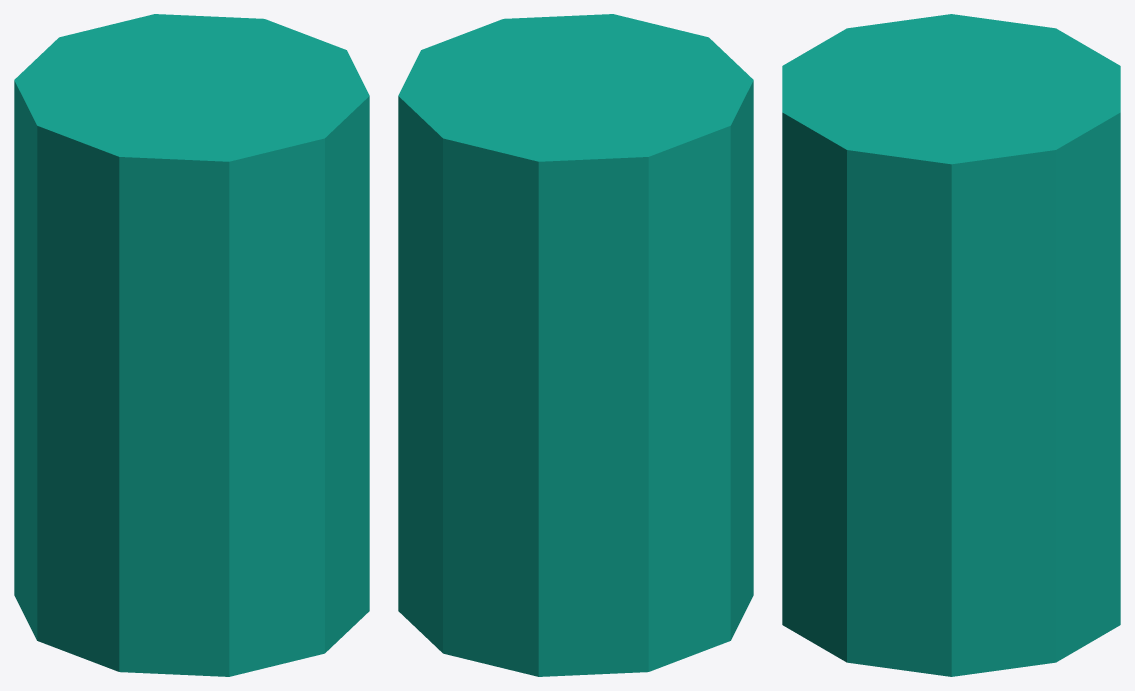
The model's file is prop38_liquidB.FBX.
The picture shows the model from 3 angles, left to right: view 1: azimuth 30°, elevation 25°; view 2: azimuth 150°, elevation 25°; view 3: azimuth 270°, elevation 25°; orthographic projection.
Visible parts, largest first — view 1: prop38_liquidB; view 2: prop38_liquidB; view 3: prop38_liquidB.
Part boxes in pixels (box(x1,y1,x2,y2)): prop38_liquidB: box(14, 14, 369, 676); prop38_liquidB: box(398, 14, 753, 676); prop38_liquidB: box(782, 14, 1120, 676).
Bounding box in the file's own units: 5.45 × 8.67 × 5.19.
